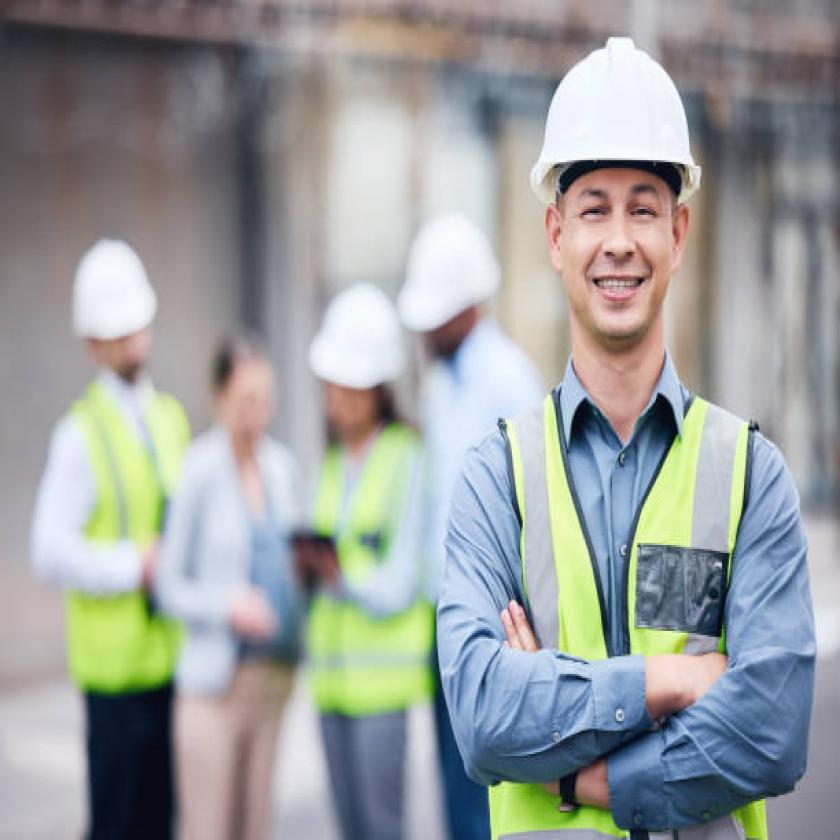Con_casco: (533, 16, 715, 384), (62, 212, 174, 416), (386, 195, 509, 355), (305, 269, 408, 442)
Sin_casco: (204, 290, 290, 483)
